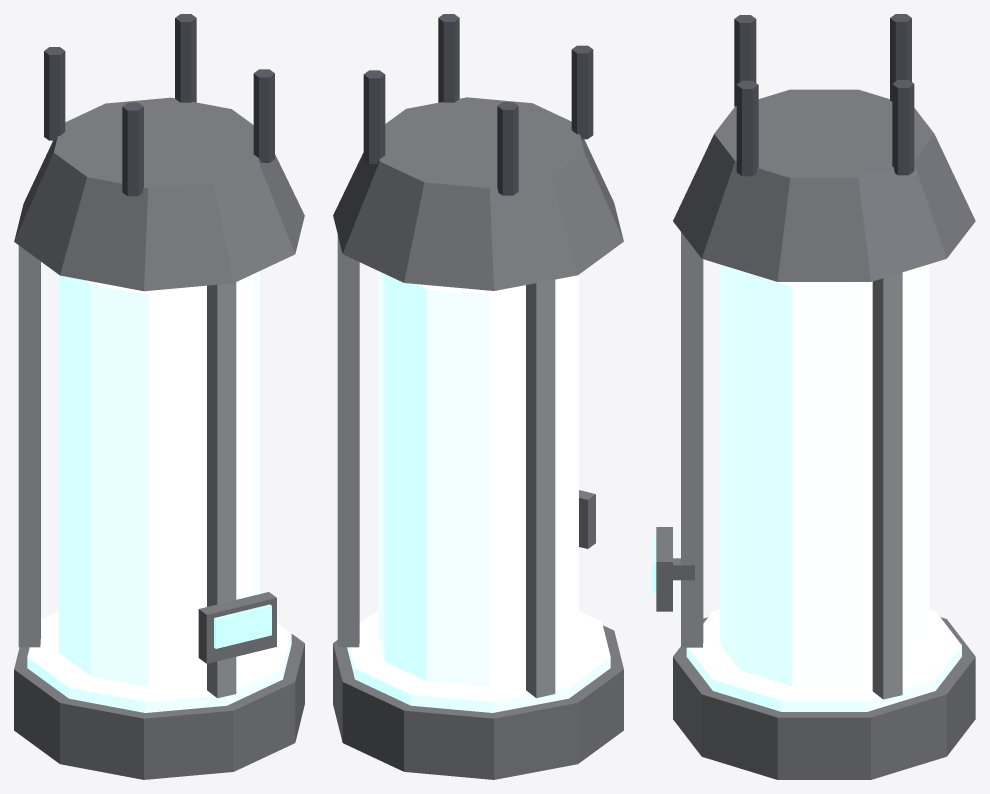
Rendered from SM_Stasis_Pod.fbx.
3 views of the same model, side by side, from view 1: azimuth 30°, elevation 25°; view 2: azimuth 150°, elevation 25°; view 3: azimuth 270°, elevation 25° (orthographic).
Visible parts, largest first — view 1: SM_Stasis_Pod; view 2: SM_Stasis_Pod; view 3: SM_Stasis_Pod.
Part boxes in pixels (box(x1,y1,x2,y2)): SM_Stasis_Pod: box(14, 14, 304, 779); SM_Stasis_Pod: box(333, 14, 623, 779); SM_Stasis_Pod: box(652, 14, 975, 779).
Size of the model in its own units: 1.05 by 2.67 by 1.18.
